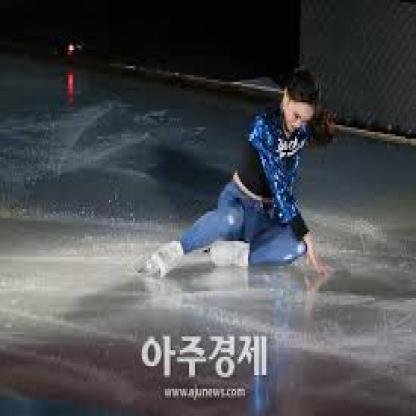Fall_Down: (152, 70, 332, 279)
